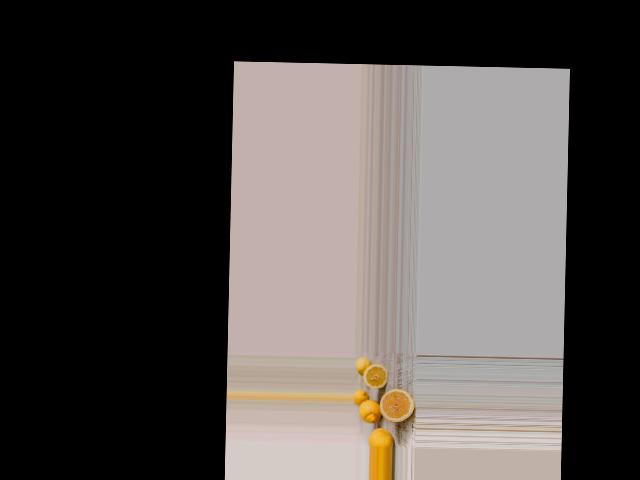lemon: (367, 425, 396, 447)
